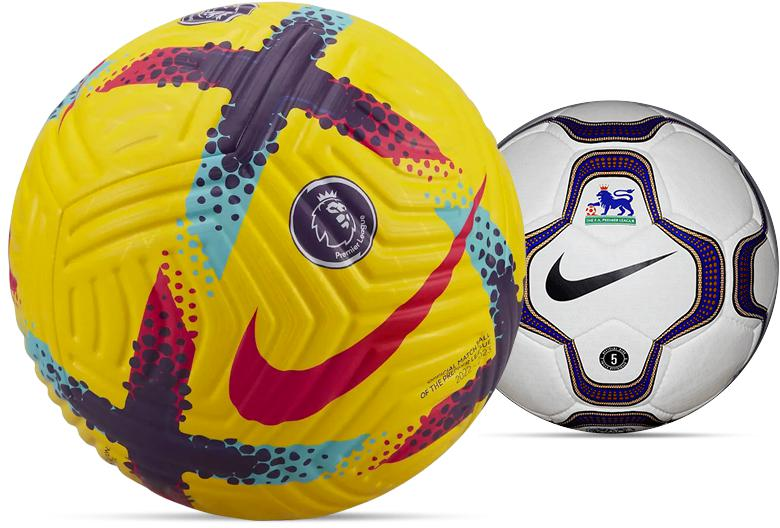sphere: (8, 1, 527, 521), (496, 101, 778, 434)
